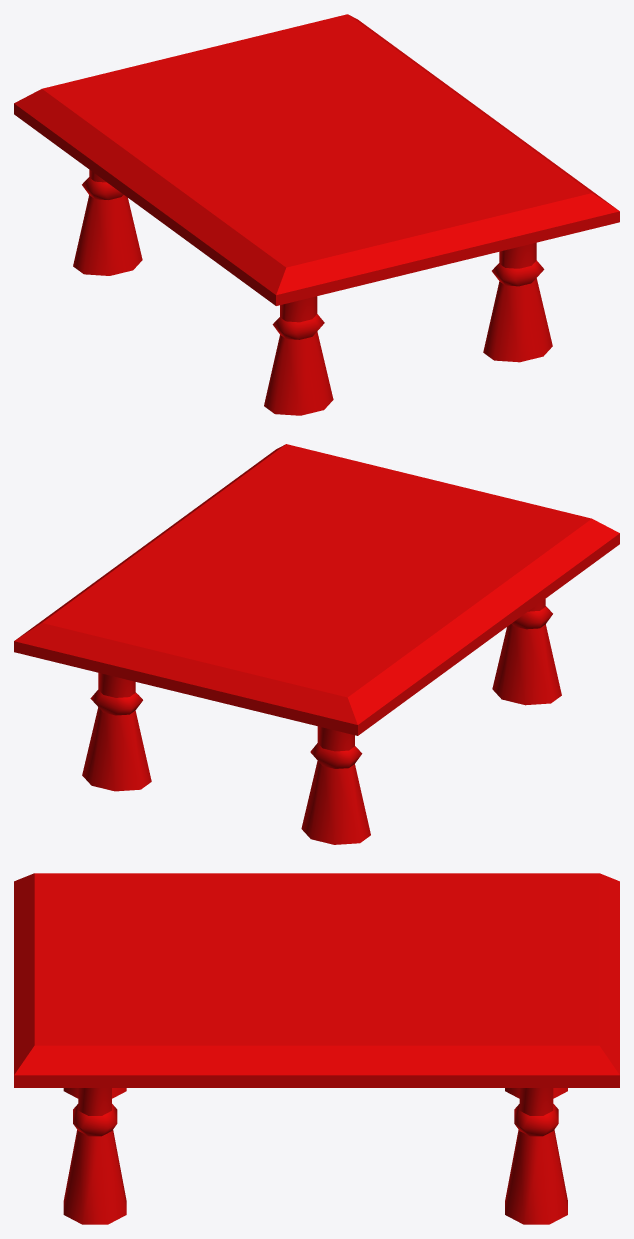
File: Tavolo_Sala.fbx
3 renders of one model, top to bottom at view 1: azimuth 30°, elevation 25°; view 2: azimuth 150°, elevation 25°; view 3: azimuth 270°, elevation 25°, orthographic. The views are drawn at different scales.
Parts seen in each view (by area): view 1: Travolo_Sala; view 2: Travolo_Sala; view 3: Travolo_Sala.
Part boxes in pixels (x1,y1,x2,y2): Travolo_Sala: (14,14,619,415); Travolo_Sala: (14,444,619,844); Travolo_Sala: (14,873,619,1224).
Size of the model in its own units: 141 by 64.15 by 186.
